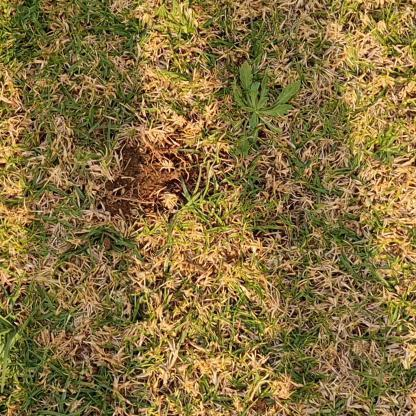Weeds: (236, 61, 302, 150)
